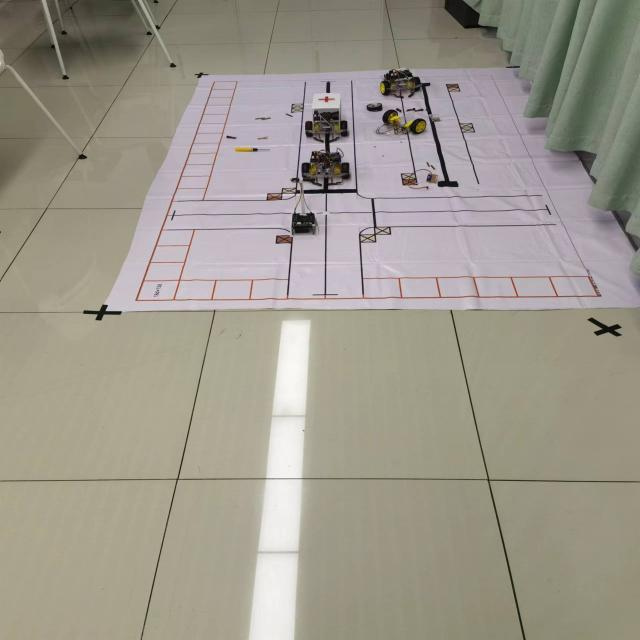RedCross: (315, 92, 340, 104)
